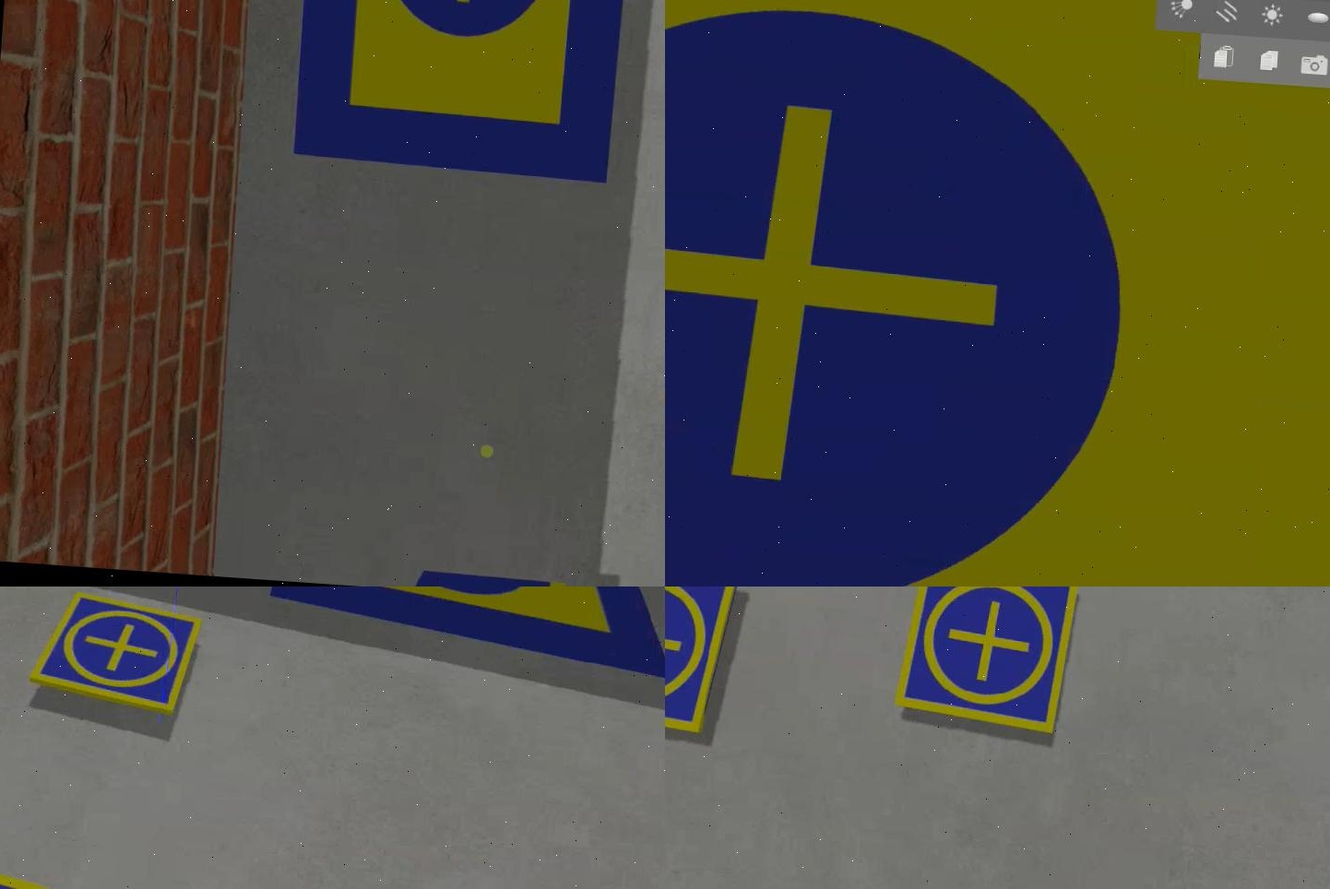large_base: (663, 1, 1328, 587), (289, 1, 634, 186), (261, 587, 663, 680)
small_base: (889, 587, 1080, 739), (25, 590, 203, 717), (663, 587, 739, 736)
